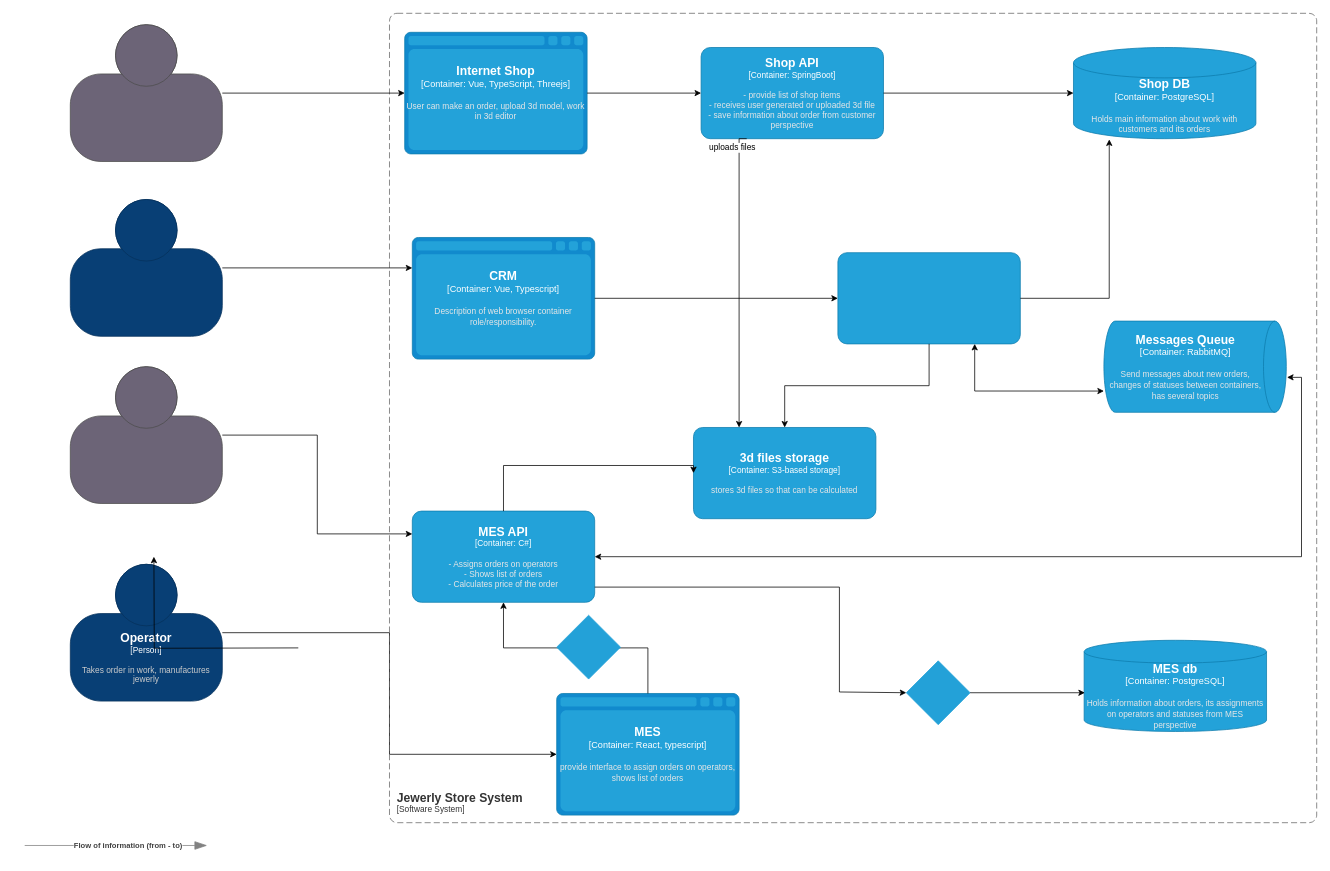
The diagram is 1330 pixels wide and 871 high, and some of its shapes have lost their labels. The shapes that lost their labels are listed below. From the top down, each one's centre as x and y in pixels, then its label:
At point (146, 93): "Customer [Person] Description of external person.".
At point (146, 267): "Seller [Person] Operates with order, confirms manufacturing for the user".
At point (928, 298): "CRM API [Container: SpringBoot] Description of container role/responsibility.".
At point (146, 435): "API user [Person] Description of external person.".
At point (588, 646): "Клиентский кеш".
At point (938, 692): "Серверный кеш".
